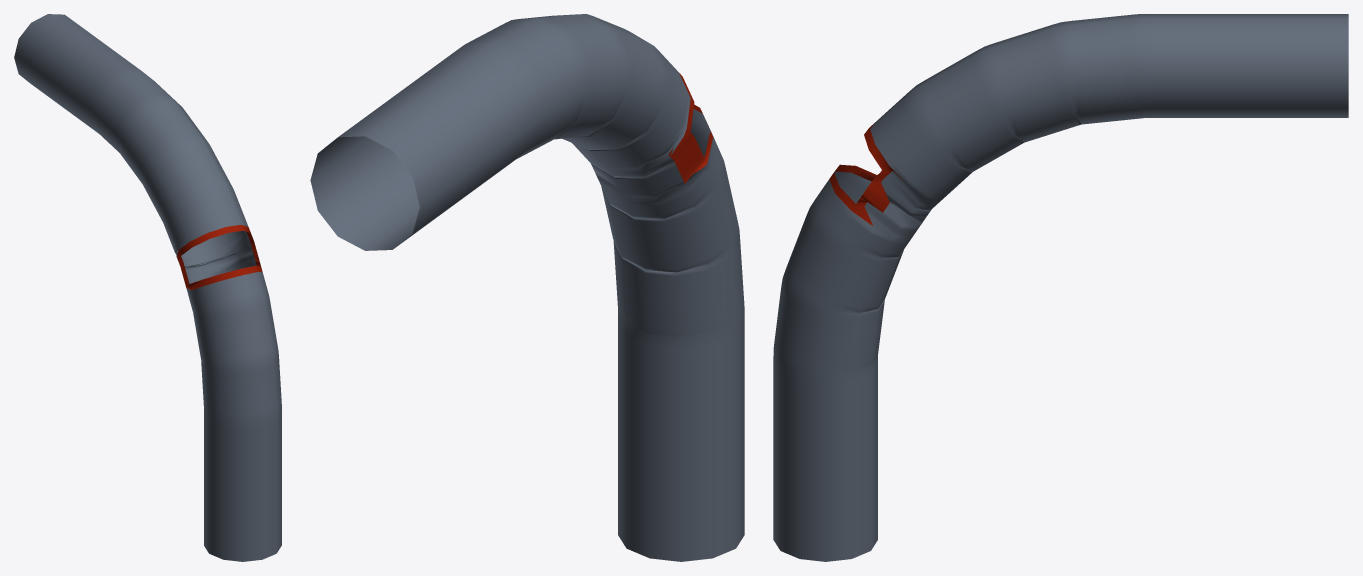
File: damaged_pipe.obj
3 views of the same model, side by side, from view 1: azimuth 30°, elevation 25°; view 2: azimuth 150°, elevation 25°; view 3: azimuth 270°, elevation 25° (orthographic). The views are drawn at different scales.
Parts seen in each view (by area): view 1: Plane.002, Plane.001; view 2: Plane.002, Plane.001; view 3: Plane.002, Plane.001.
Part boxes in pixels (box(x1,y1,x2,y2)): Plane.002: box(14, 14, 281, 561); Plane.001: box(176, 224, 262, 290); Plane.002: box(310, 14, 744, 561); Plane.001: box(668, 73, 713, 183); Plane.002: box(773, 14, 1348, 561); Plane.001: box(829, 123, 904, 225).
Size of the model in its own units: 0.0203 by 0.11 by 0.11.
